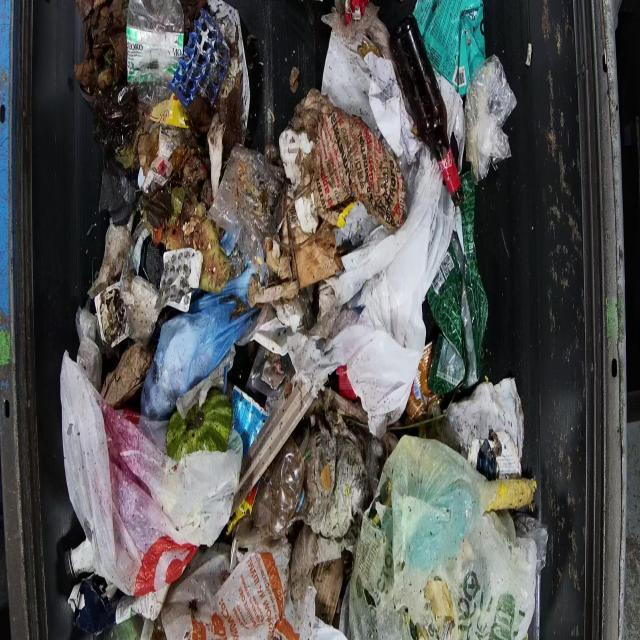bottles: (376, 1, 465, 206)
other-trash: (58, 0, 541, 638)
plastic-waste: (63, 353, 326, 640), (360, 422, 542, 640)
